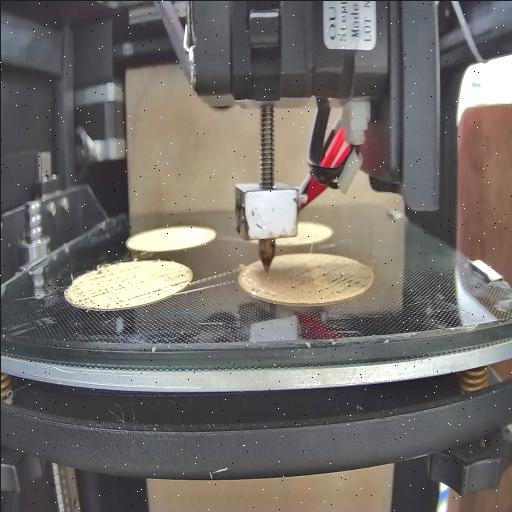under_extrusion: (66, 264, 162, 304), (292, 258, 368, 300), (246, 278, 278, 300), (164, 273, 190, 296)
